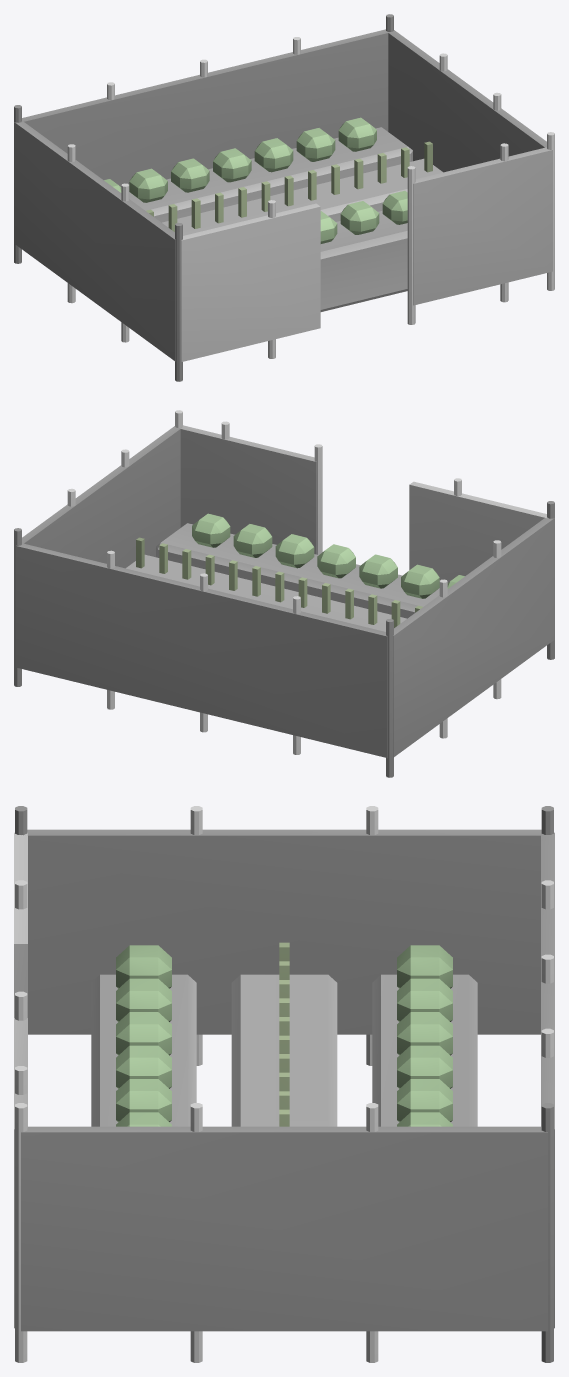
Rendered from garden.glb.
The picture shows the model from 3 angles, top to bottom: view 1: azimuth 30°, elevation 25°; view 2: azimuth 150°, elevation 25°; view 3: azimuth 270°, elevation 25°; orthographic projection. The views are drawn at different scales.
Parts seen in each view (by area): view 1: bed; view 2: bed; view 3: bed.
Part boxes in pixels (x1,y1,x2,y2): bed: (14,14,554,381); bed: (14,410,554,777); bed: (14,806,554,1362).
Bounding box in the file's own units: 4.08 × 1.6 × 3.08.
